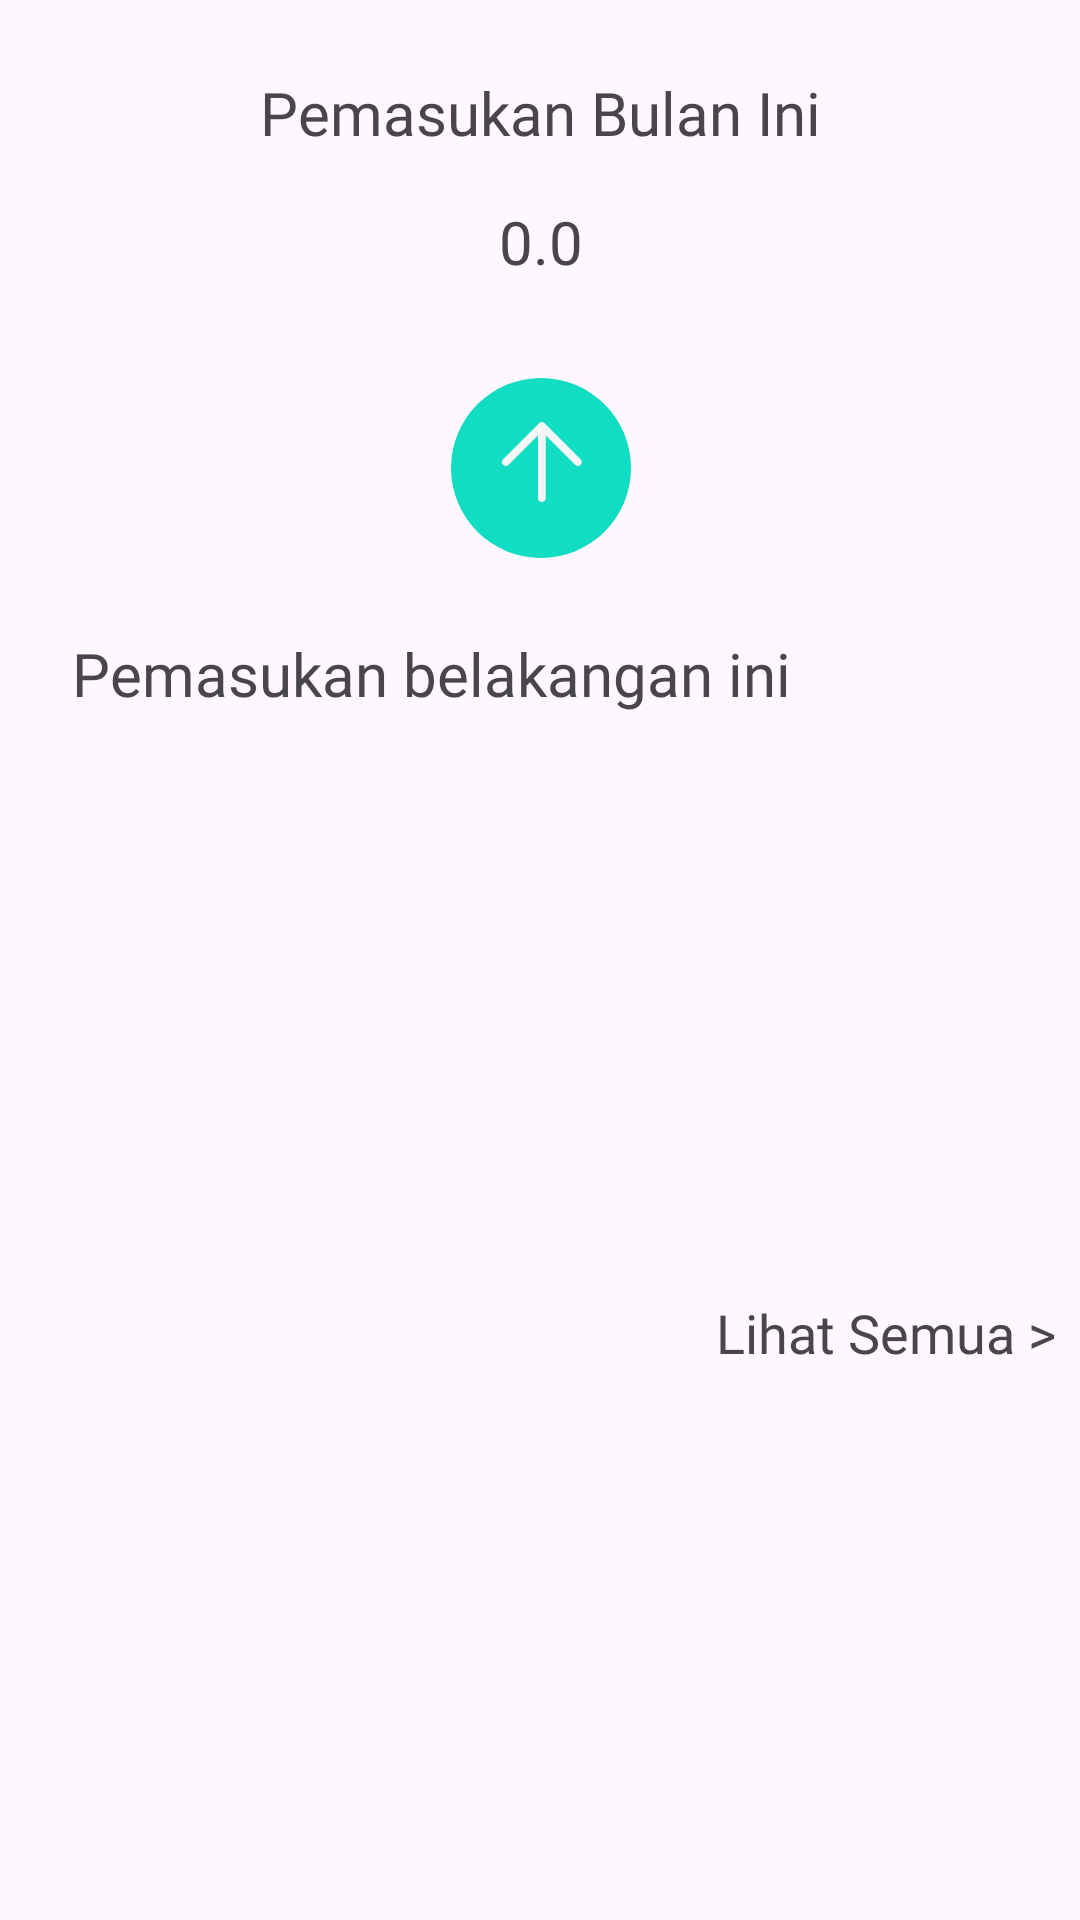

Named icons in this screenshot (1080×1920) and their centers, [x,y]:
income: [541,468]
